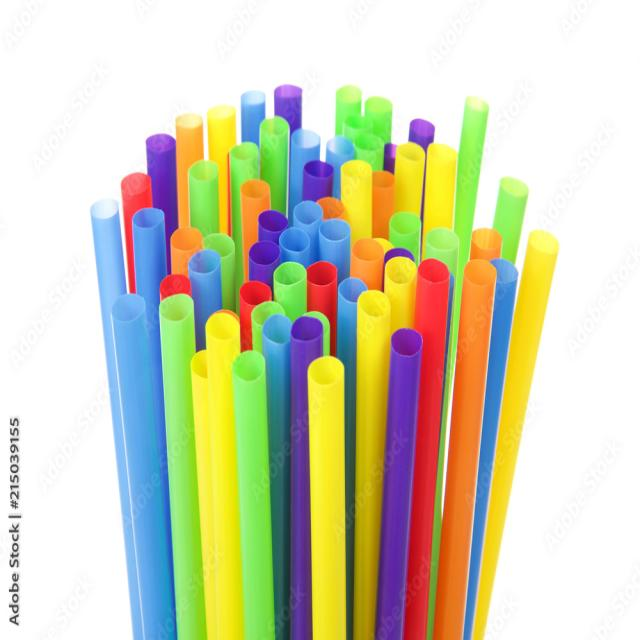plastic: (367, 314, 435, 640)
